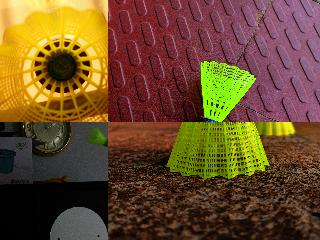shuttlecock: (0, 7, 107, 121), (164, 122, 271, 179), (198, 61, 257, 121), (250, 122, 297, 138), (88, 127, 107, 147)
